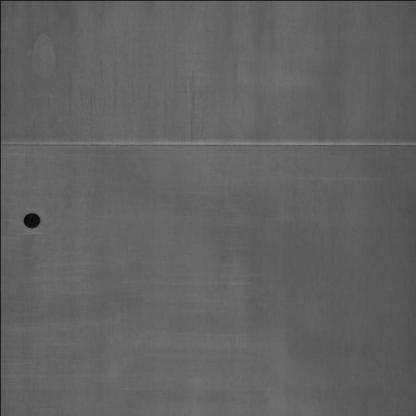punching_hole: (21, 205, 42, 234)
welding_line: (2, 131, 415, 163)
